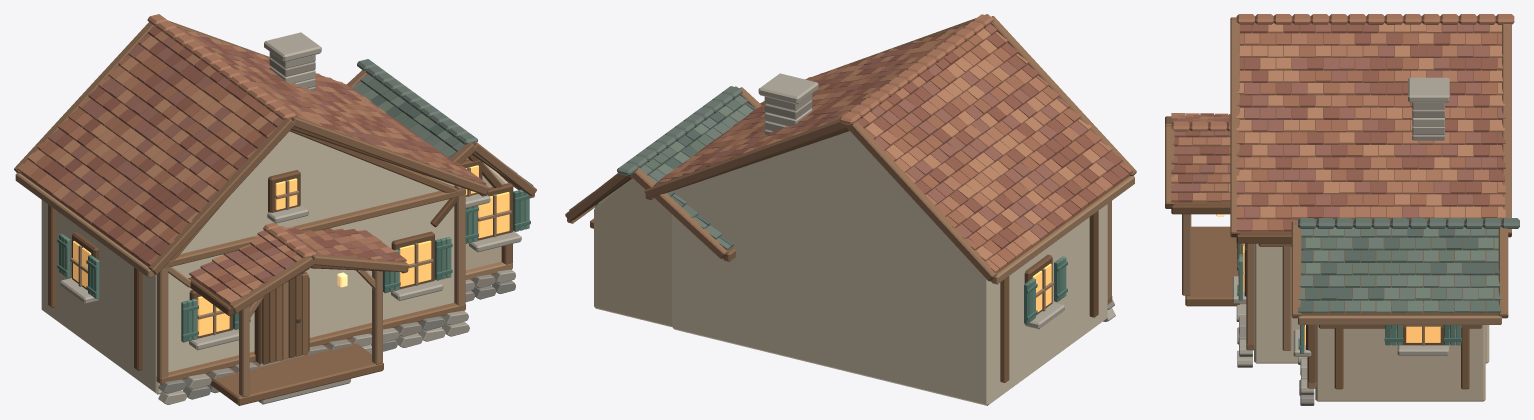
Rendered from long.glb.
3 renders of one model, left to right at view 1: azimuth 30°, elevation 25°; view 2: azimuth 150°, elevation 25°; view 3: azimuth 270°, elevation 25°, orthographic. The views are drawn at different scales.
Parts seen in each view (by area): view 1: long Warm limewash 03, long Fired clay 03, long Fired clay 01, long Fired clay 02, long Fired clay 04, long Oak end grain 01, long Fired clay 05, long Oiled oak 02, long Oiled oak 04, long Oiled oak 01, long Oiled oak 03, long Warm slate 03 (+13 smaller); view 2: long Warm limewash 03, long Fired clay 03, long Fired clay 01, long Fired clay 02, long Warm limewash 02, long Fired clay 04, long Oak end grain 01, long Fired clay 05, long Slate green shingles 03, long Oiled oak 01, long Oiled oak 04, long Warm slate 03 (+7 smaller); view 3: long Fired clay 03, long Fired clay 01, long Fired clay 05, long Fired clay 04, long Fired clay 02, long Warm limewash 02, long Oiled oak 01, long Slate green shingles 03, long Oak end grain 01, long Oiled oak 02, long Slate green shingles 02, long Oiled oak 04 (+9 smaller).
Boxes of the visible parts, x1,y1,x2,y2 form: long Warm limewash 03: [41, 131, 454, 394]; long Fired clay 03: [17, 14, 478, 294]; long Fired clay 01: [43, 26, 462, 293]; long Fired clay 02: [29, 28, 474, 289]; long Fired clay 04: [47, 34, 486, 281]; long Oak end grain 01: [14, 20, 536, 313]; long Fired clay 05: [27, 31, 462, 304]; long Oiled oak 02: [48, 130, 512, 405]; long Oiled oak 04: [15, 172, 534, 397]; long Oiled oak 01: [20, 127, 528, 370]; long Oiled oak 03: [156, 189, 465, 384]; long Warm slate 03: [60, 32, 521, 404]; long Warm limewash 03: [672, 131, 1107, 405]; long Fired clay 03: [671, 14, 1112, 272]; long Fired clay 01: [654, 33, 1129, 249]; long Fired clay 02: [663, 25, 1133, 263]; long Warm limewash 02: [594, 178, 672, 327]; long Fired clay 04: [660, 24, 1114, 239]; long Oak end grain 01: [565, 14, 1136, 281]; long Fired clay 05: [659, 28, 1106, 261]; long Slate green shingles 03: [578, 86, 747, 250]; long Oiled oak 01: [574, 128, 1129, 317]; long Oiled oak 04: [567, 176, 1134, 298]; long Warm slate 03: [758, 73, 1115, 329]; long Fired clay 03: [1171, 14, 1514, 231]; long Fired clay 01: [1171, 23, 1505, 231]; long Fired clay 05: [1171, 23, 1505, 219]; long Fired clay 04: [1171, 23, 1505, 231]; long Fired clay 02: [1171, 32, 1504, 231]; long Warm limewash 02: [1315, 325, 1485, 401]; long Oiled oak 01: [1171, 23, 1498, 350]; long Slate green shingles 03: [1298, 218, 1519, 313]; long Oak end grain 01: [1165, 17, 1511, 318]; long Oiled oak 02: [1185, 226, 1482, 389]; long Slate green shingles 02: [1300, 227, 1501, 313]; long Oiled oak 04: [1182, 214, 1501, 388].
Bounding box in the file's own units: 8.95 × 5.39 × 6.52.
